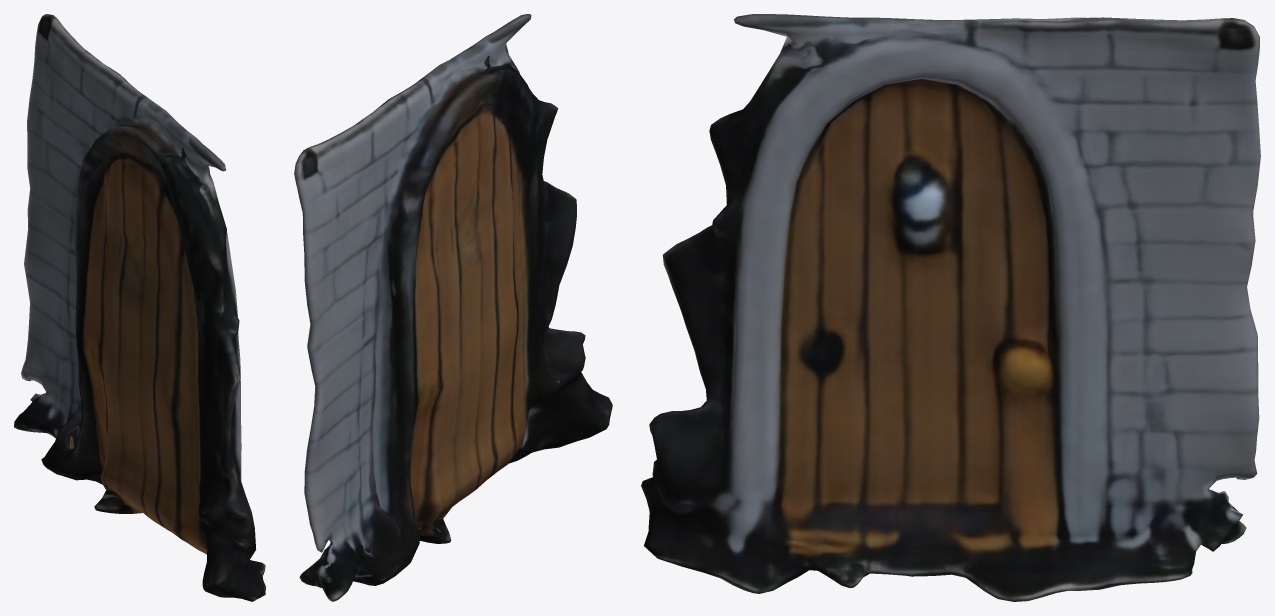
Rendered from 9a2020711522_d571d903761e_Fairy_door_destroed.glb.
3 views of the same model, side by side, from view 1: azimuth 30°, elevation 25°; view 2: azimuth 150°, elevation 25°; view 3: azimuth 270°, elevation 25° (orthographic). The views are drawn at different scales.
Visible parts, largest first — view 1: mesh; view 2: mesh; view 3: mesh.
Boxes of the visible parts, box(x1,y1,x2,y2) form: mesh: box(14, 14, 265, 601); mesh: box(294, 14, 612, 601); mesh: box(641, 14, 1260, 601).
Bounding box in the file's own units: 0.2759 × 0.9835 × 0.9902.
Materials: 1 (1 with a texture image).
